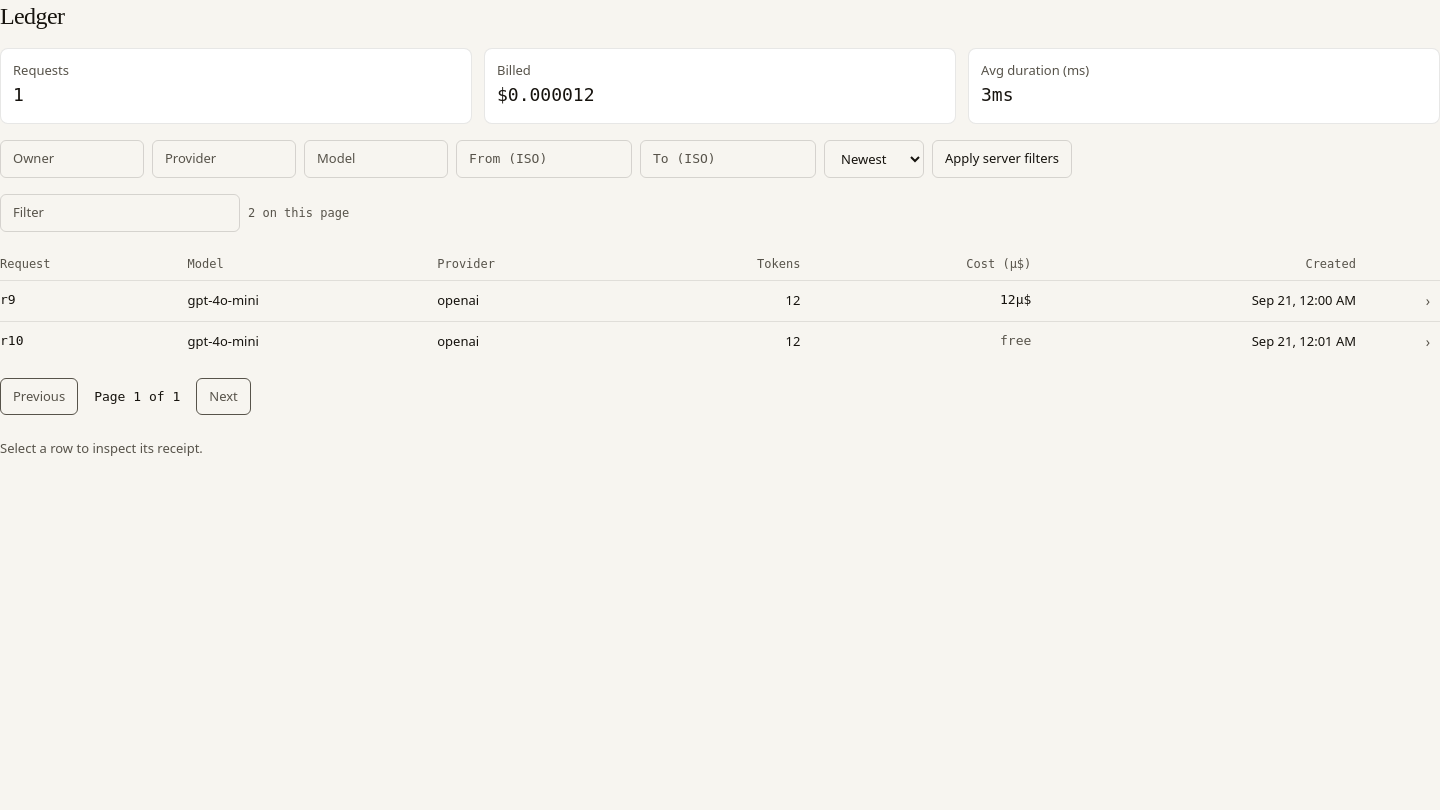
Test: RunInspector › walks rows with prev and next
Click the button named "inspect receipt r9" at (1428, 300), box [1416,288,1439,312]
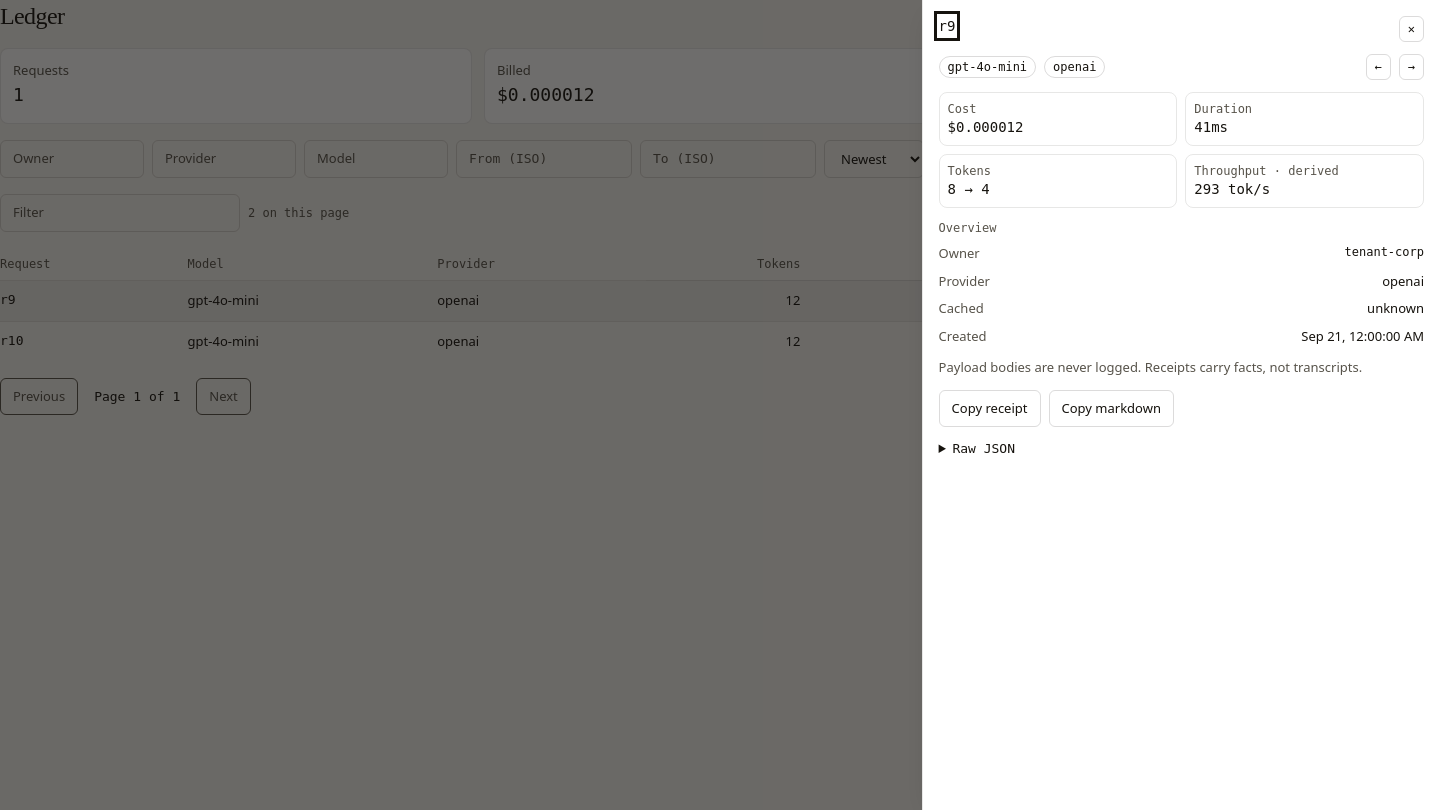
Click the button named "next receipt" at (1411, 67), box [1399,54,1424,80]
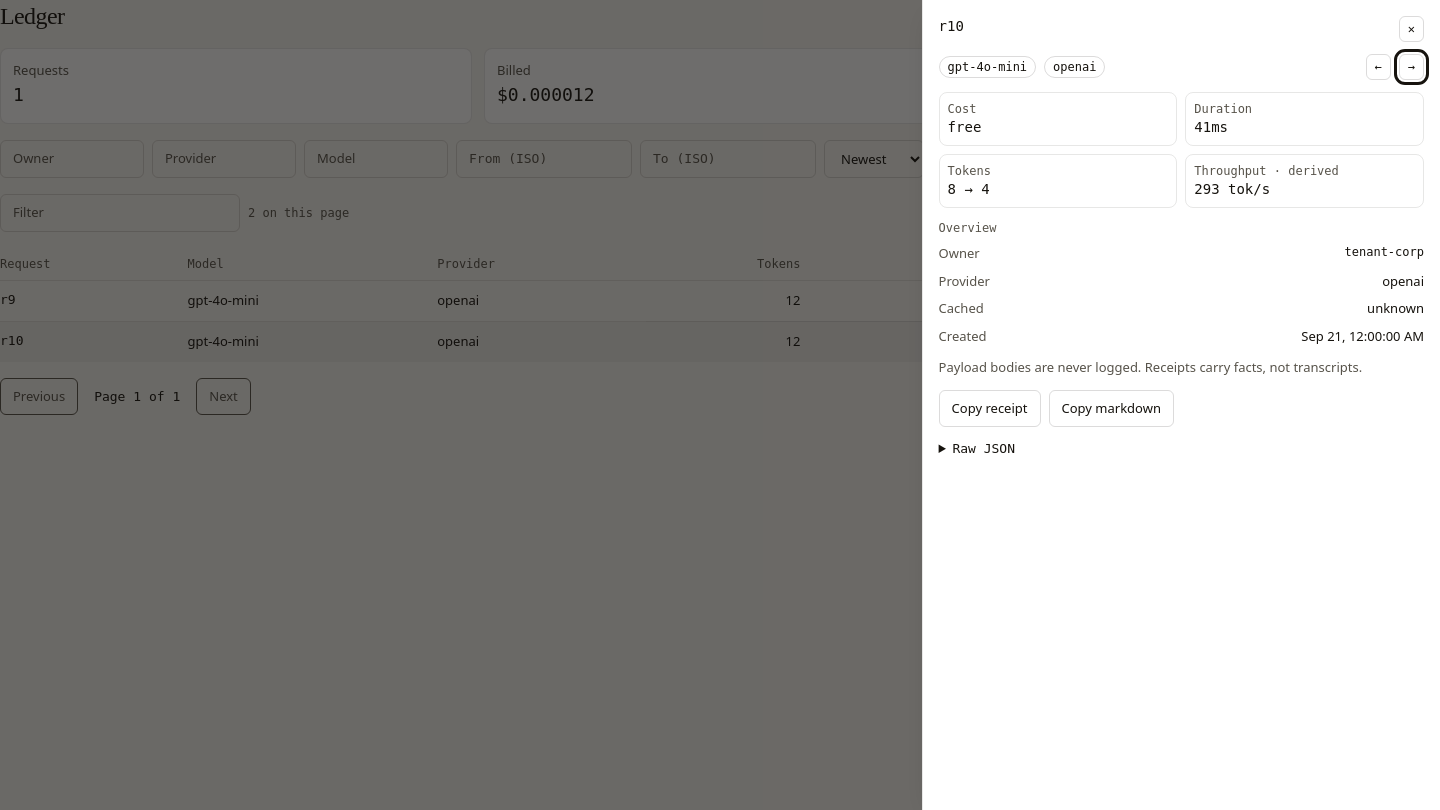
Expected: the dialog shows "r10", [939,18,964,34]
Click the button named "previous receipt" at (1378, 67), box [1366,54,1391,80]
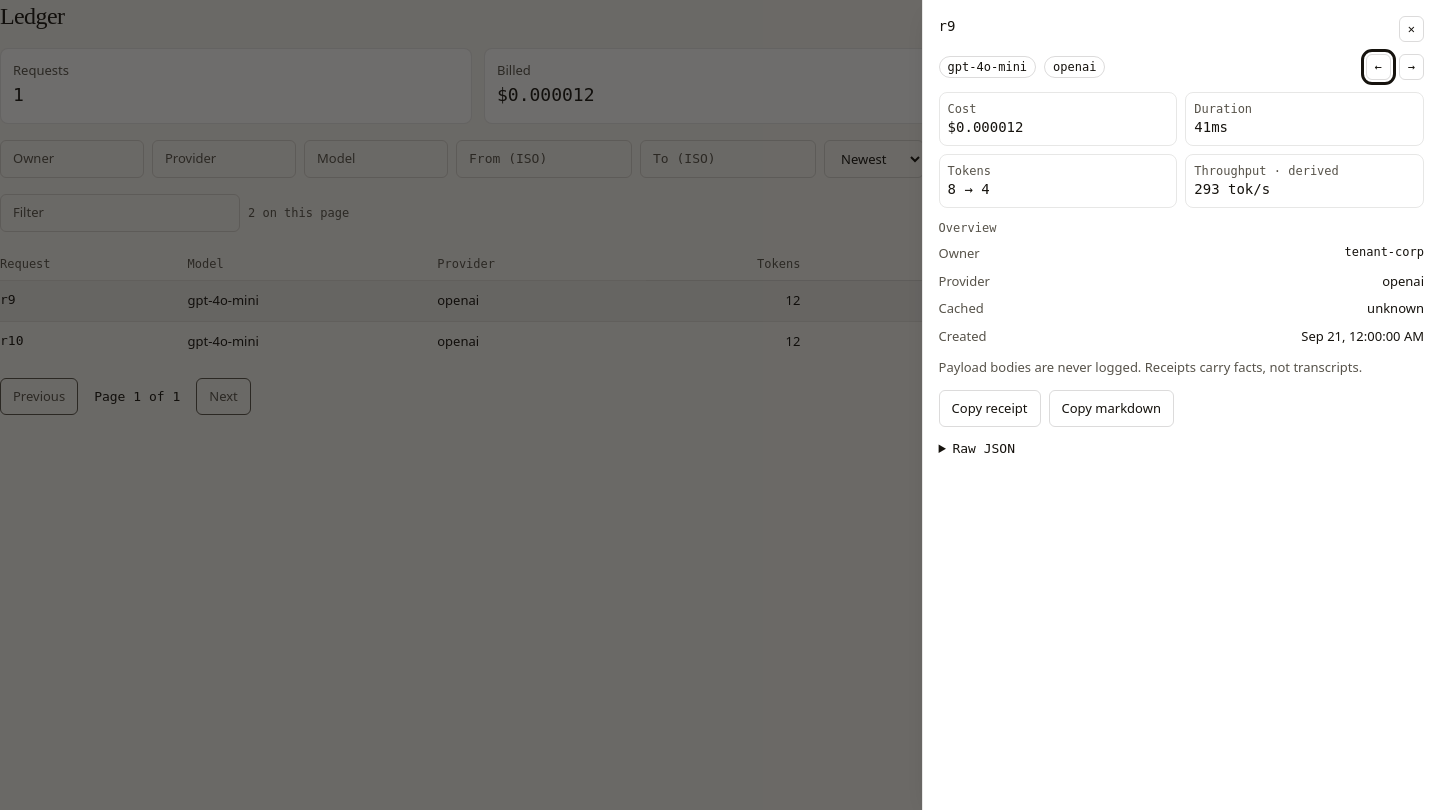
Expected: the dialog shows "r9", [939,18,956,34]
Click the button named "previous receipt" at (1378, 67), box [1366,54,1391,80]
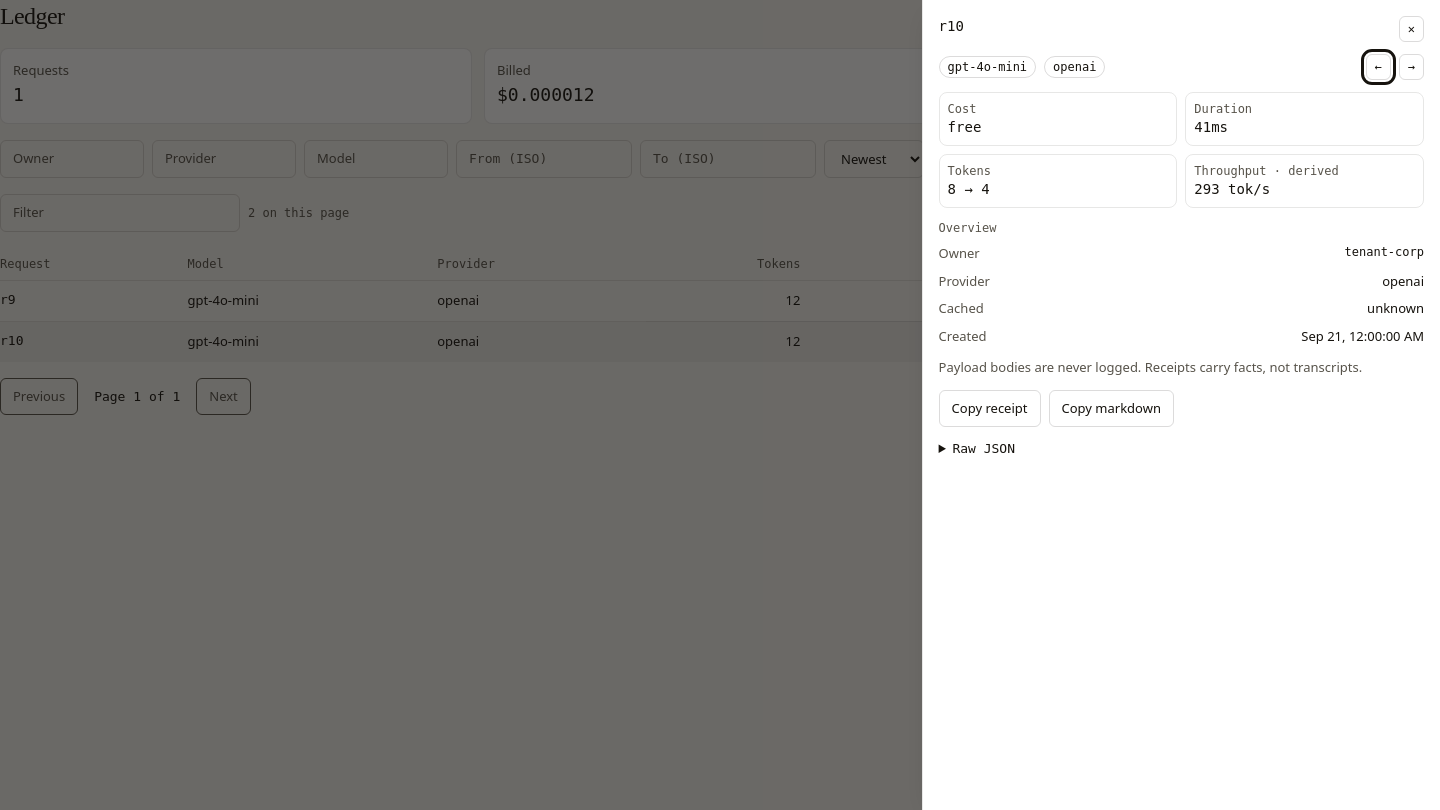
Expected: the dialog shows "r10", [939,18,964,34]
